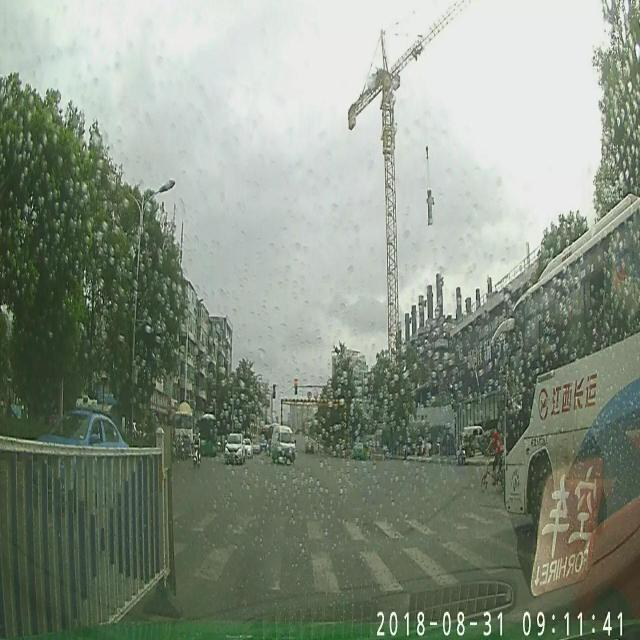car: (31, 396, 130, 496), (270, 426, 296, 462), (226, 432, 246, 466), (352, 443, 369, 459)
